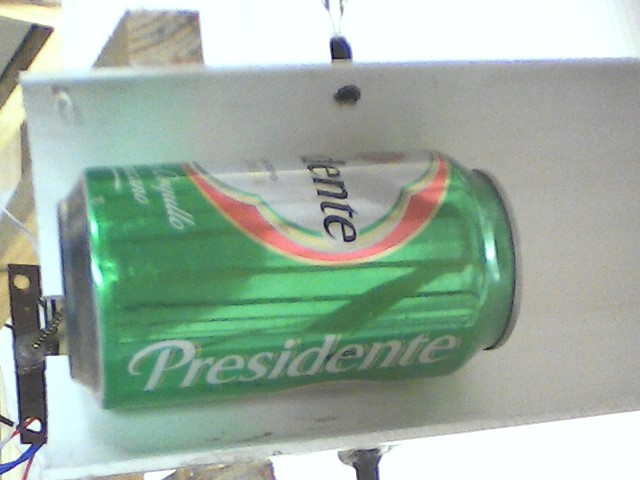lata: (53, 148, 533, 419)
